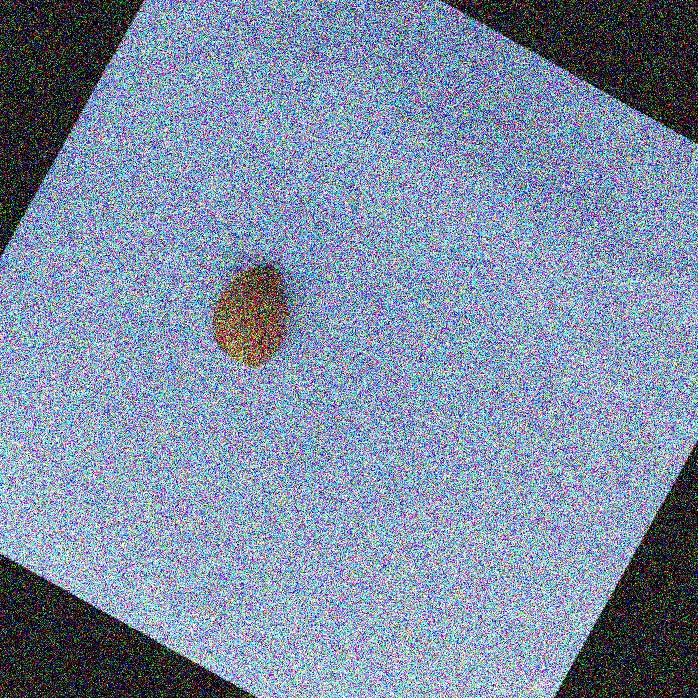grade2: (192, 249, 319, 383)
